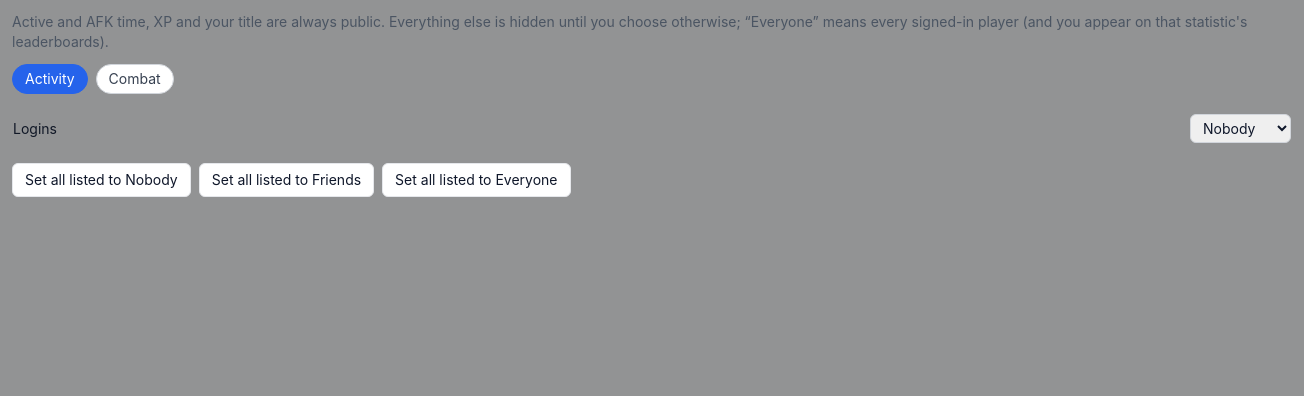
StatisticsVisibilitySettings › changes one setting with the shown value as expected
Click the tab "Combat" at (135, 79), box [96,64,174,94]
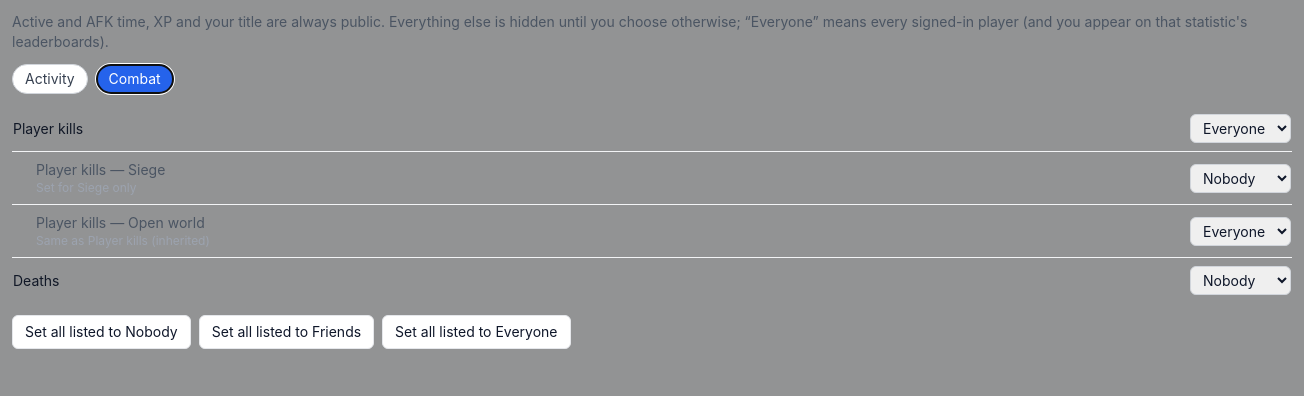
Select "Everyone" in the dropdown named "Player kills — Siege" at (1240, 178), box [1190,164,1291,192]
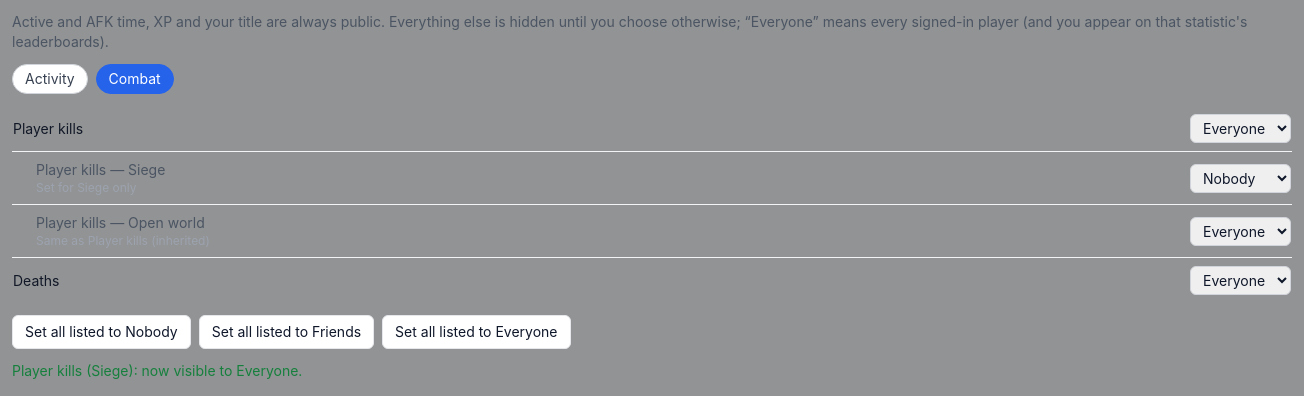
Now the message reads "Player kills (Siege): now visible to Everyone.", box [12,362,302,379]
